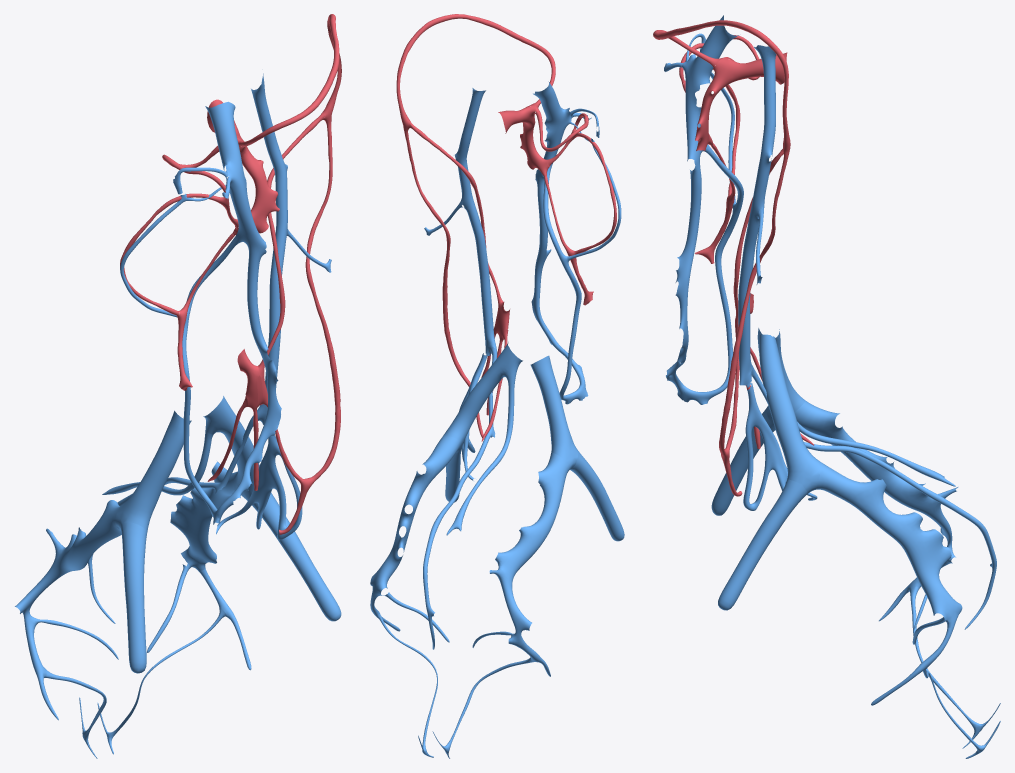
The model's file is VH_M_Blood_Vasculature_Large_Intestine.glb.
3 renders of one model, left to right at view 1: azimuth 30°, elevation 25°; view 2: azimuth 150°, elevation 25°; view 3: azimuth 270°, elevation 25°, orthographic. The views are drawn at different scales.
Visible parts, largest first — view 1: VH_M_superior_mesenteric_vein, VH_M_marginal_artery_of_Drummond, VH_M_inferior_mesenteric_vein, VH_M_internal_iliac_vein_R, VH_M_external_iliac_vein_R, VH_M_common_iliac_vein_R, VH_M_internal_iliac_vein_L, VH_M_external_iliac_vein_L, VH_M_sigmoid_vein, VH_M_common_iliac_vein_L, VH_M_superior_mesenteric_artery, VH_M_ileocolic_vein (+12 smaller); view 2: VH_M_internal_iliac_vein_R, VH_M_superior_mesenteric_vein, VH_M_marginal_artery_of_Drummond, VH_M_inferior_mesenteric_vein, VH_M_internal_iliac_vein_L, VH_M_common_iliac_vein_L, VH_M_common_iliac_vein_R, VH_M_ileocolic_vein, VH_M_superior_rectal_vein, VH_M_external_iliac_vein_R, VH_M_superior_mesenteric_artery, VH_M_median_sacral_vein (+9 smaller); view 3: VH_M_internal_iliac_vein_L, VH_M_superior_mesenteric_vein, VH_M_inferior_mesenteric_vein, VH_M_common_iliac_vein_L, VH_M_internal_iliac_vein_R, VH_M_marginal_artery_of_Drummond, VH_M_external_iliac_vein_L, VH_M_sigmoid_vein, VH_M_superior_mesenteric_artery, VH_M_ileocolic_vein, VH_M_superior_rectal_vein, VH_M_external_iliac_vein_R (+5 smaller).
Boxes of the visible parts, x1,y1,x2,y2 form: VH_M_superior_mesenteric_vein: (205, 101, 281, 520); VH_M_marginal_artery_of_Drummond: (240, 14, 341, 534); VH_M_inferior_mesenteric_vein: (251, 73, 287, 424); VH_M_internal_iliac_vein_R: (15, 500, 121, 633); VH_M_external_iliac_vein_R: (120, 522, 146, 673); VH_M_common_iliac_vein_R: (115, 410, 191, 532); VH_M_internal_iliac_vein_L: (170, 461, 237, 570); VH_M_external_iliac_vein_L: (253, 492, 341, 621); VH_M_sigmoid_vein: (216, 434, 302, 540); VH_M_common_iliac_vein_L: (203, 396, 259, 506); VH_M_superior_mesenteric_artery: (207, 99, 279, 235); VH_M_ileocolic_vein: (182, 236, 240, 524); VH_M_internal_iliac_vein_R: (489, 452, 570, 646); VH_M_superior_mesenteric_vein: (531, 81, 585, 387); VH_M_marginal_artery_of_Drummond: (396, 14, 555, 437); VH_M_inferior_mesenteric_vein: (454, 88, 496, 355); VH_M_internal_iliac_vein_L: (370, 436, 460, 597); VH_M_common_iliac_vein_L: (443, 342, 522, 453); VH_M_common_iliac_vein_R: (530, 355, 578, 469); VH_M_ileocolic_vein: (543, 175, 588, 404); VH_M_superior_rectal_vein: (423, 346, 497, 649); VH_M_external_iliac_vein_R: (570, 451, 624, 541); VH_M_superior_mesenteric_artery: (498, 103, 549, 176); VH_M_median_sacral_vein: (446, 375, 515, 535); VH_M_internal_iliac_vein_L: (815, 462, 962, 627); VH_M_superior_mesenteric_vein: (666, 15, 739, 394); VH_M_inferior_mesenteric_vein: (738, 45, 776, 387); VH_M_common_iliac_vein_L: (759, 334, 821, 493); VH_M_internal_iliac_vein_R: (794, 401, 958, 565); VH_M_marginal_artery_of_Drummond: (653, 20, 790, 496); VH_M_external_iliac_vein_L: (718, 479, 807, 610); VH_M_sigmoid_vein: (743, 382, 817, 510); VH_M_superior_mesenteric_artery: (695, 52, 787, 151); VH_M_ileocolic_vein: (677, 147, 743, 404); VH_M_superior_rectal_vein: (750, 366, 996, 629); VH_M_external_iliac_vein_R: (711, 406, 775, 515).
Bounding box in the file's own units: 0.133 × 0.4076 × 0.1633.
